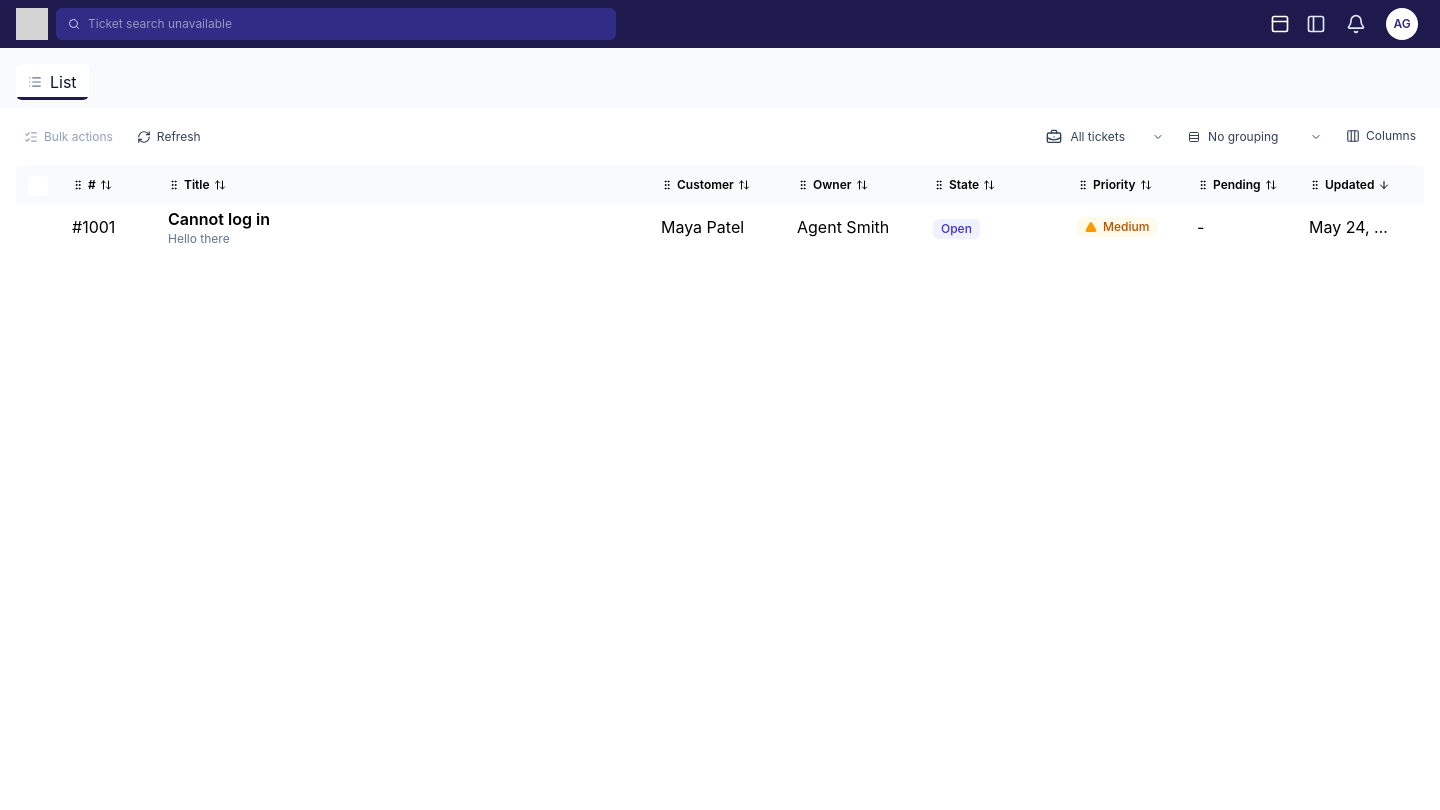
Test: TicketWorkspace My Style settings › loads, saves, and resets My Style when workspace AI is enabled
The image size is (1440, 810).
Click the button with aria-label "Open profile menu, Support" at coordinates (1402, 24), box [1380, 4, 1424, 44]
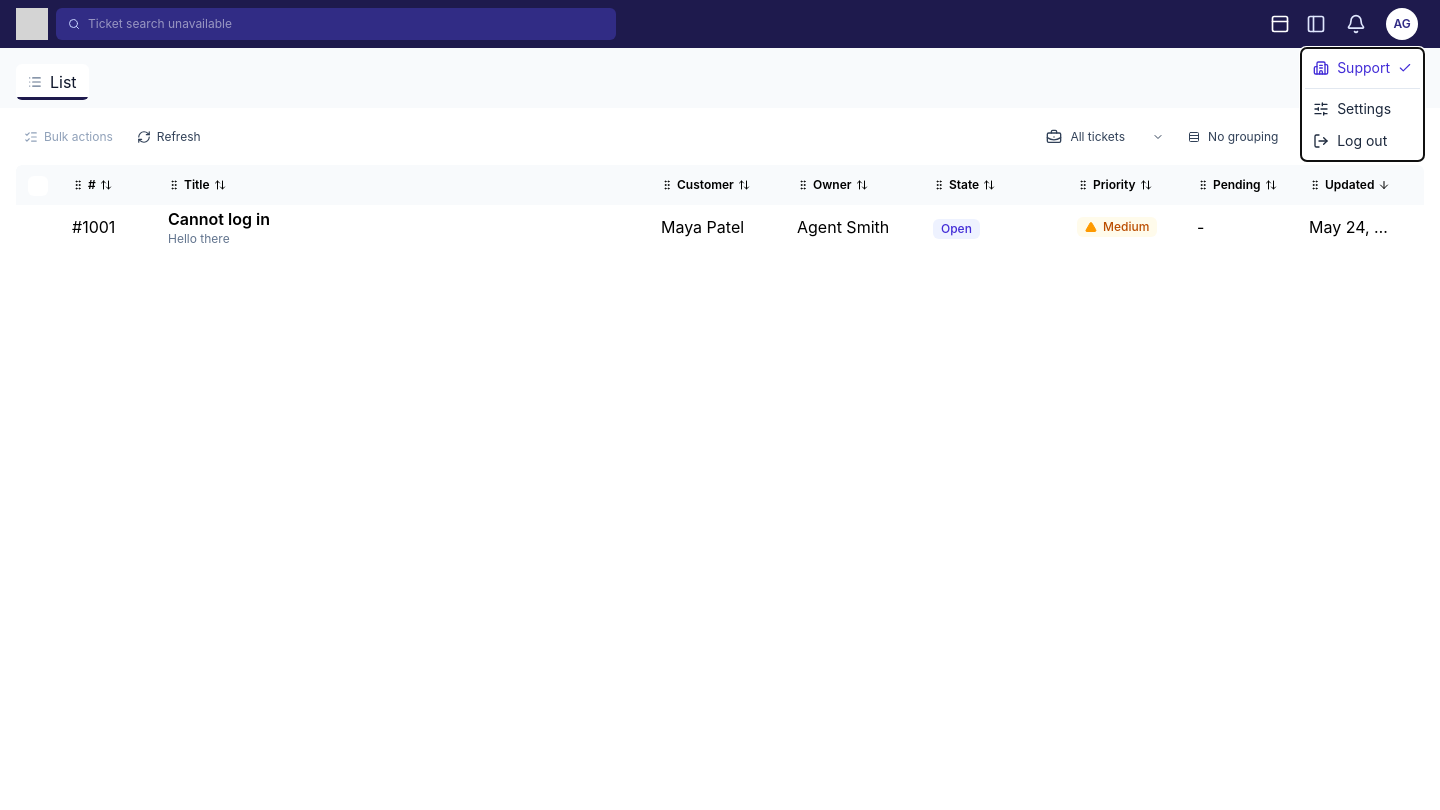
Click the menu item "Settings" at coordinates (1363, 109), box [1305, 93, 1420, 125]
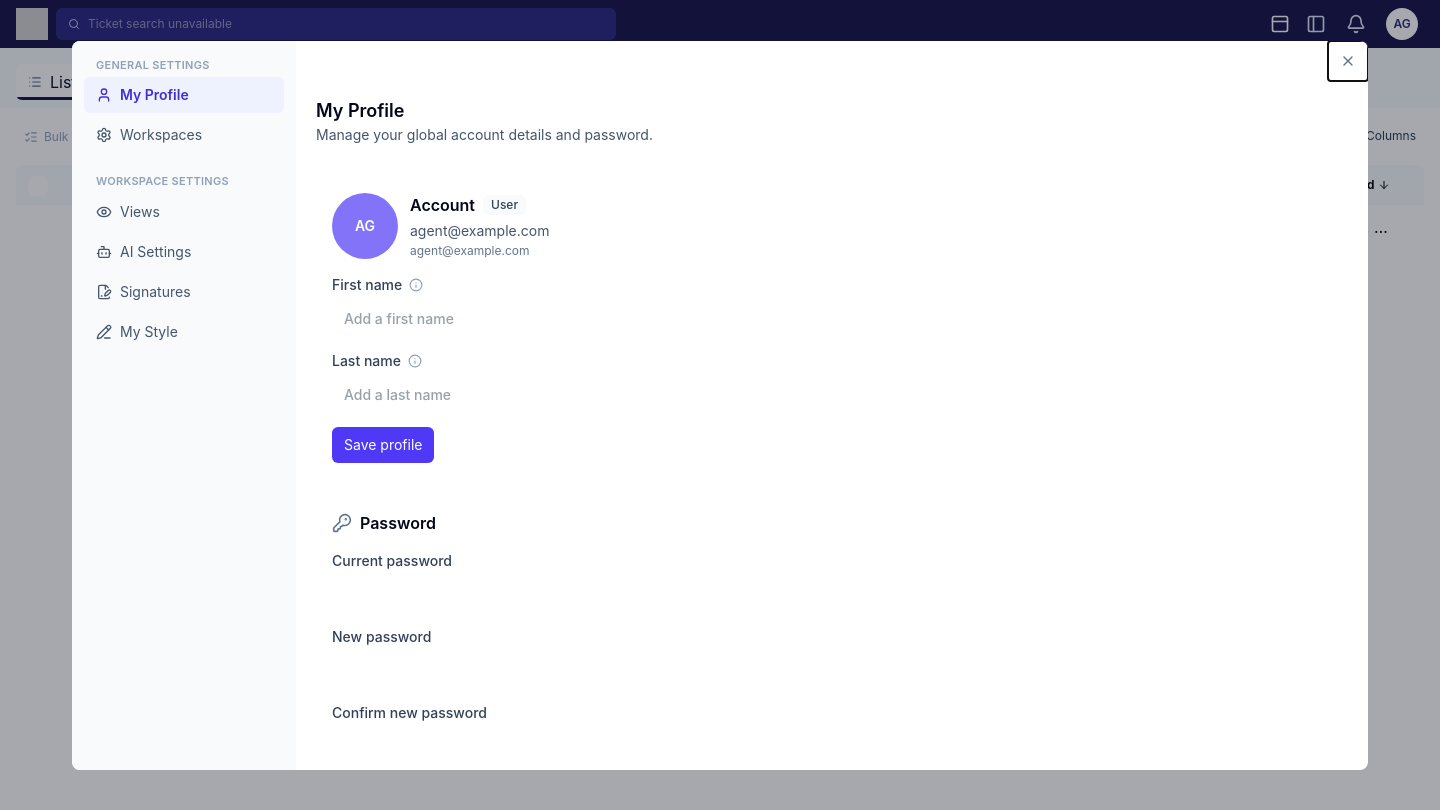
expect the field labelled "Role" is not shown: met
Click the button "My Style" at coordinates (184, 332), box [84, 314, 284, 350]
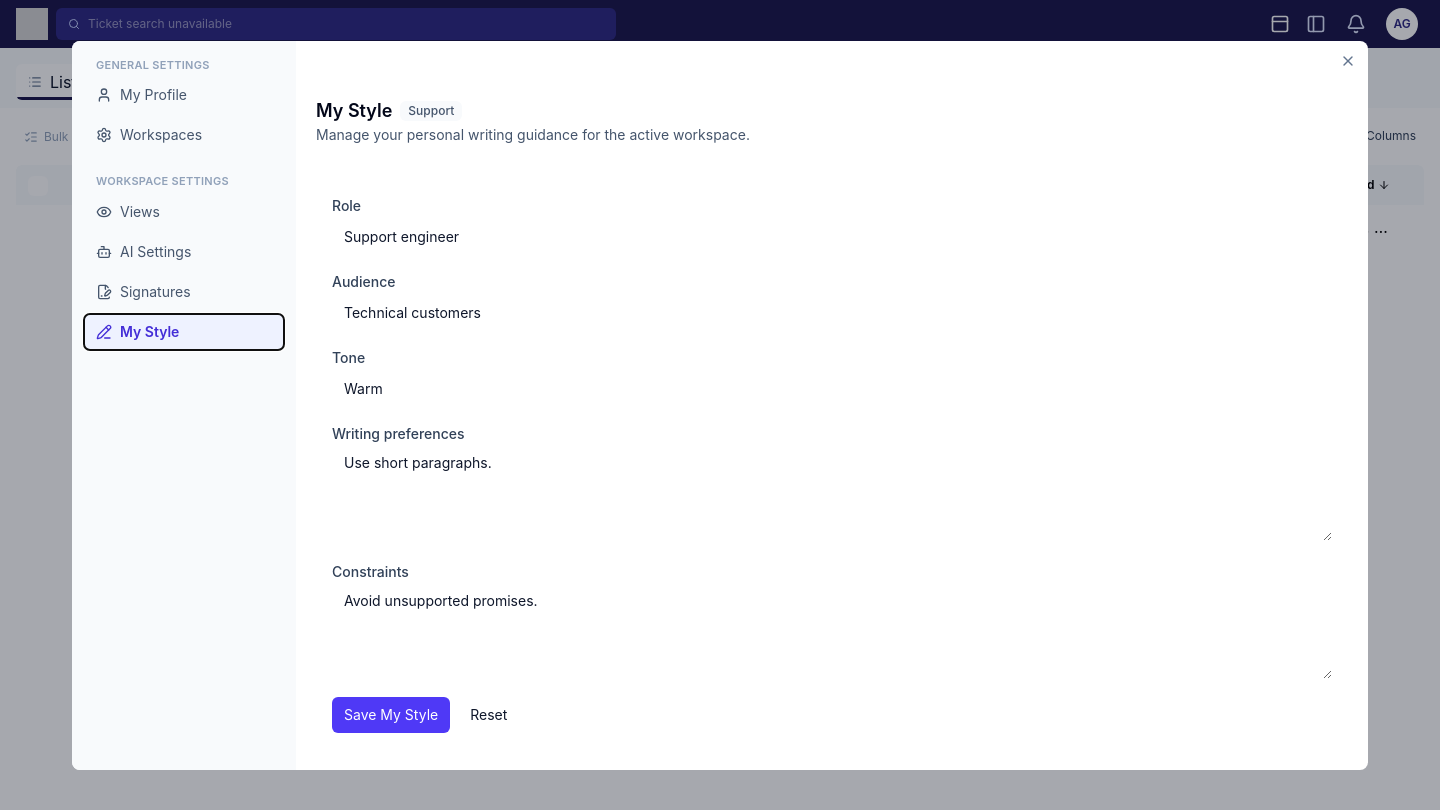
expect the field labelled "Role" holds "Support engineer": met
Type "Escalation engineer" into the field labelled "Role" at coordinates (832, 236), box [332, 216, 1332, 256]
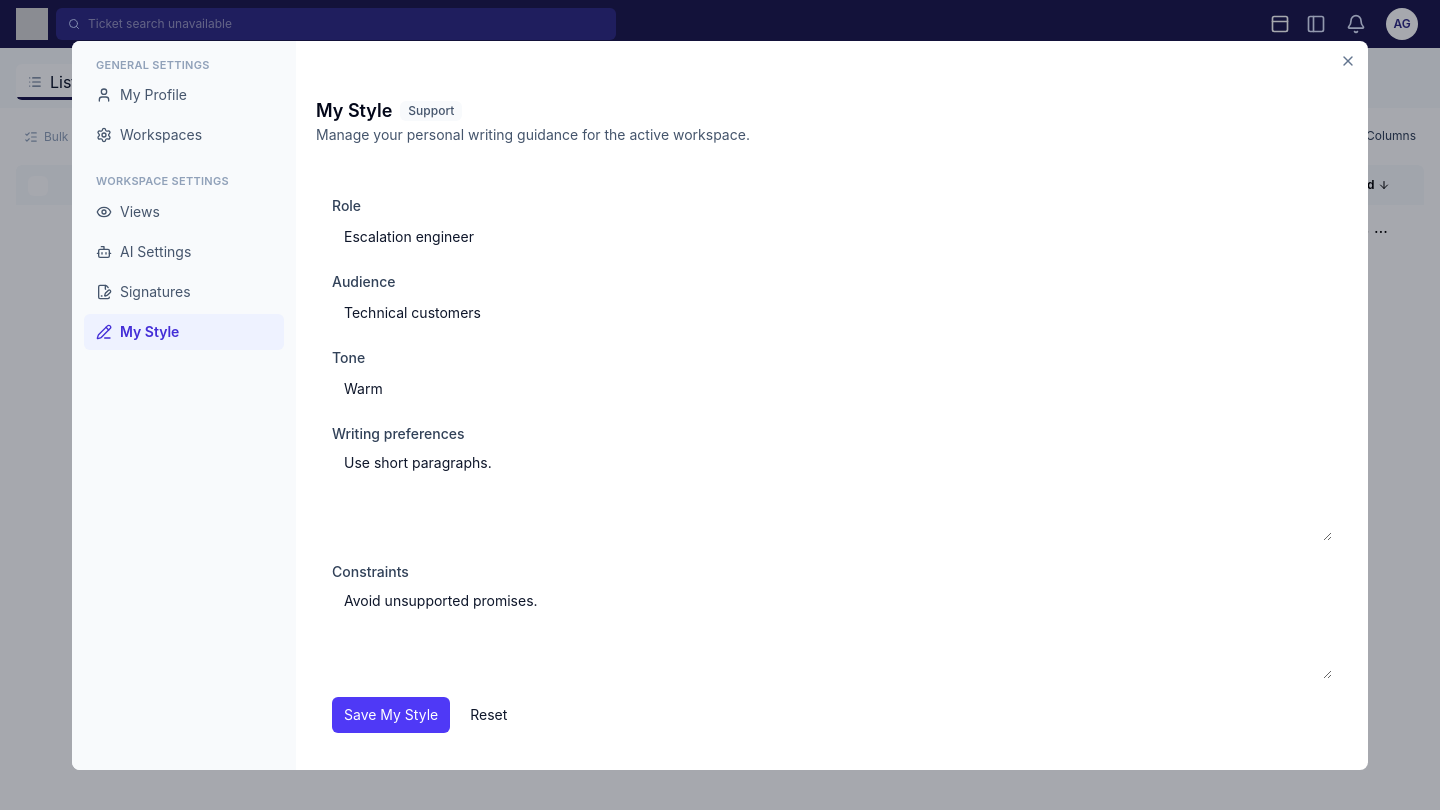
Click the button "Save My Style" at coordinates (391, 714), box [332, 696, 450, 732]
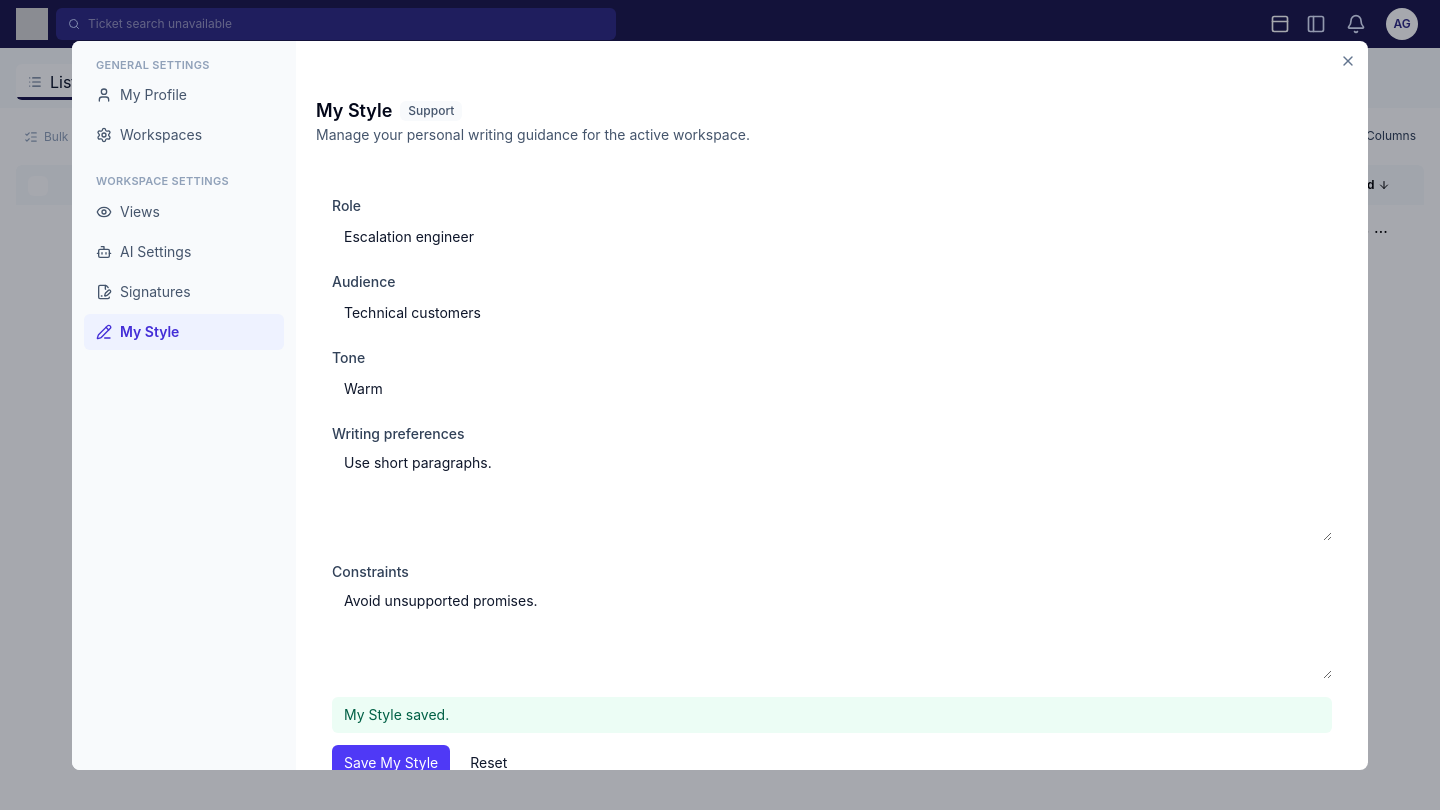
expect the text "My Style saved." is shown: met, box [332, 696, 1332, 732]
Click the button "Reset" at coordinates (489, 762), box [458, 744, 519, 780]
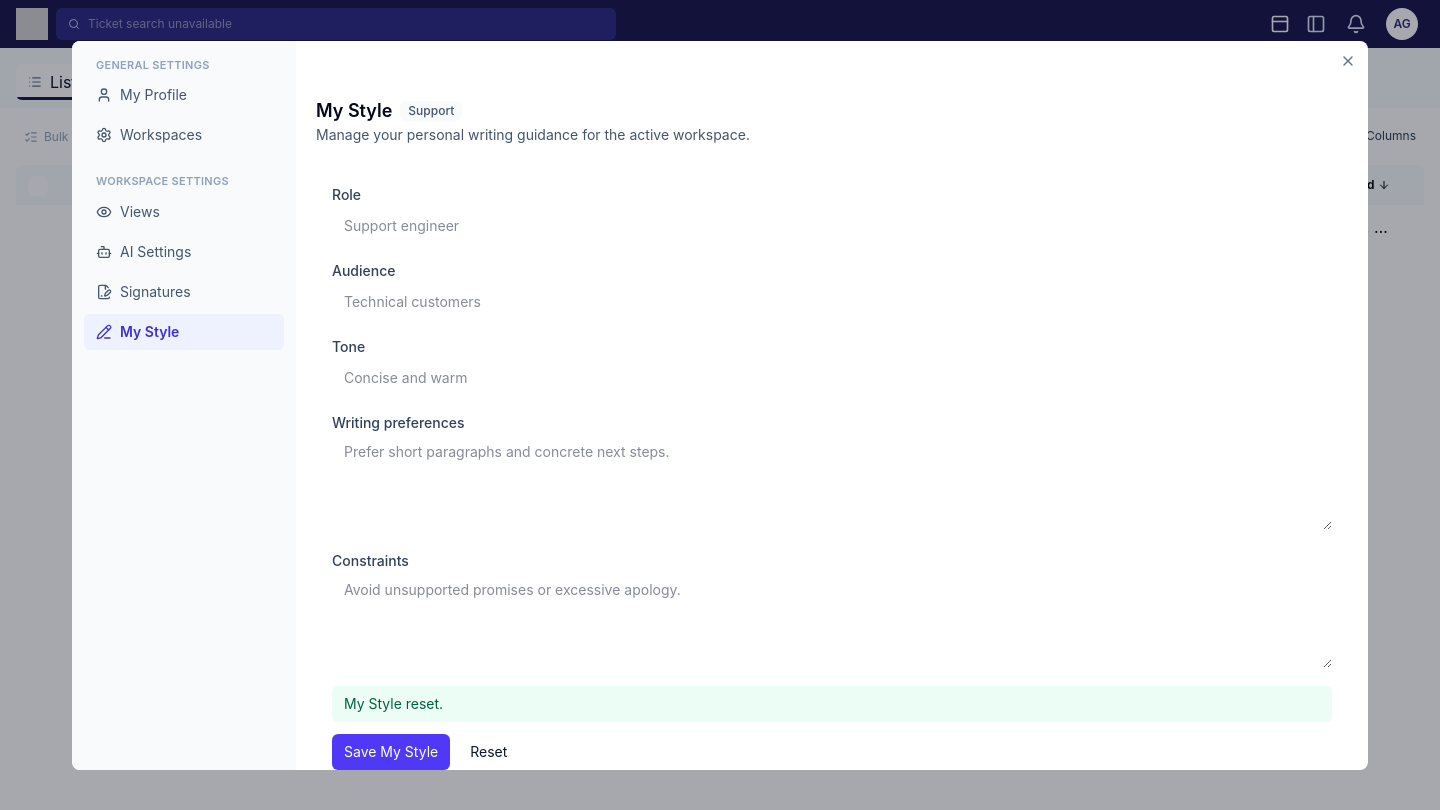
expect the text "My Style reset." is shown: met, box [332, 686, 1332, 722]
